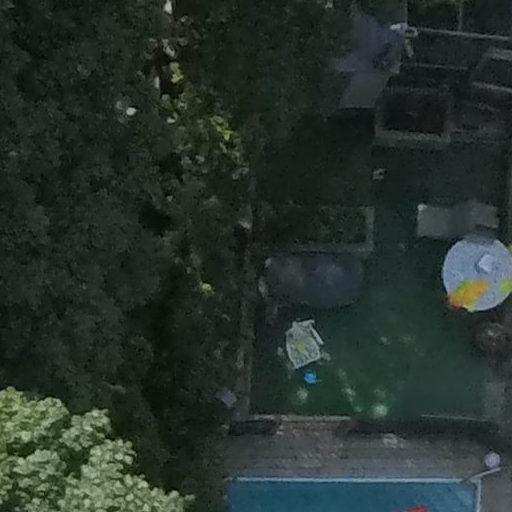chair: (281, 317, 328, 371)
table: (426, 230, 512, 314)
toy: (301, 366, 321, 386)
